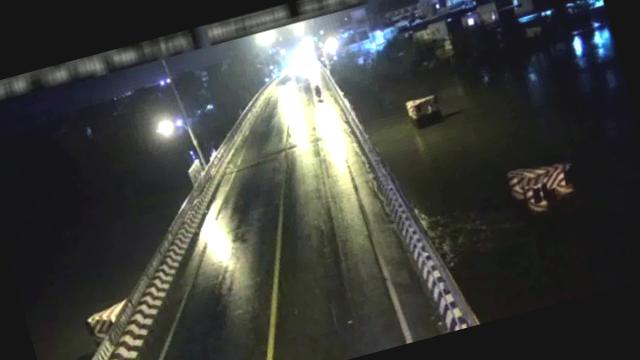Bike: (311, 83, 324, 102)
